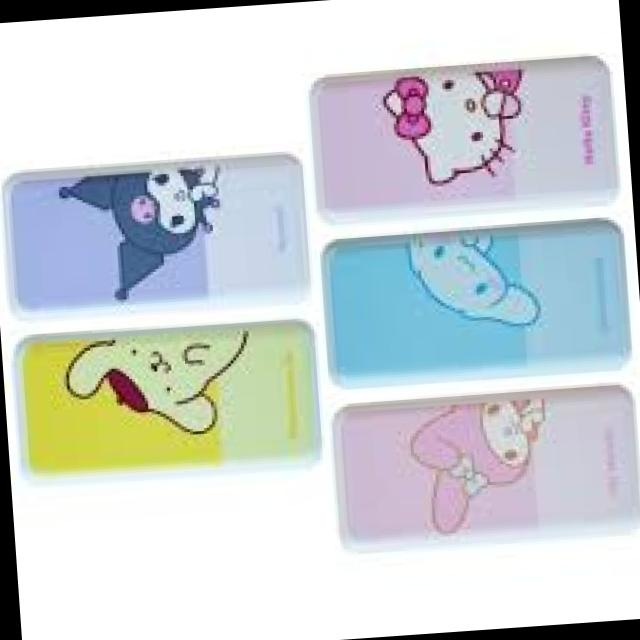power_bank: (7, 312, 330, 490), (300, 50, 623, 225), (325, 377, 640, 554), (316, 213, 633, 388), (0, 148, 313, 321)
